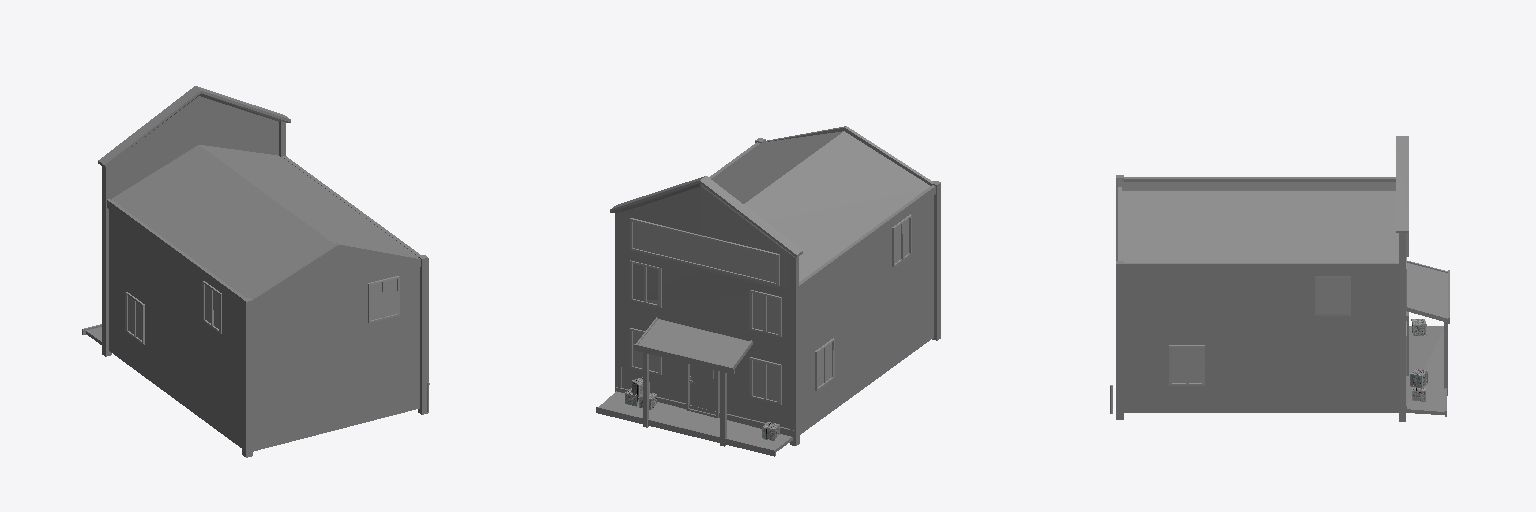
3 views of the same model, side by side, from view 1: azimuth 30°, elevation 25°; view 2: azimuth 150°, elevation 25°; view 3: azimuth 270°, elevation 25° (orthographic).
Visible parts, largest first — view 1: west_town_finish; view 2: west_town_finish; view 3: west_town_finish.
Boxes of the visible parts, x1=… form: west_town_finish: x1=82, y1=86, x2=429, y2=457; west_town_finish: x1=596, y1=126, x2=940, y2=456; west_town_finish: x1=1110, y1=136, x2=1449, y2=421.
Size of the model in its own units: 0.4743 by 0.5932 by 0.7477.
9 materials, 1 textured.